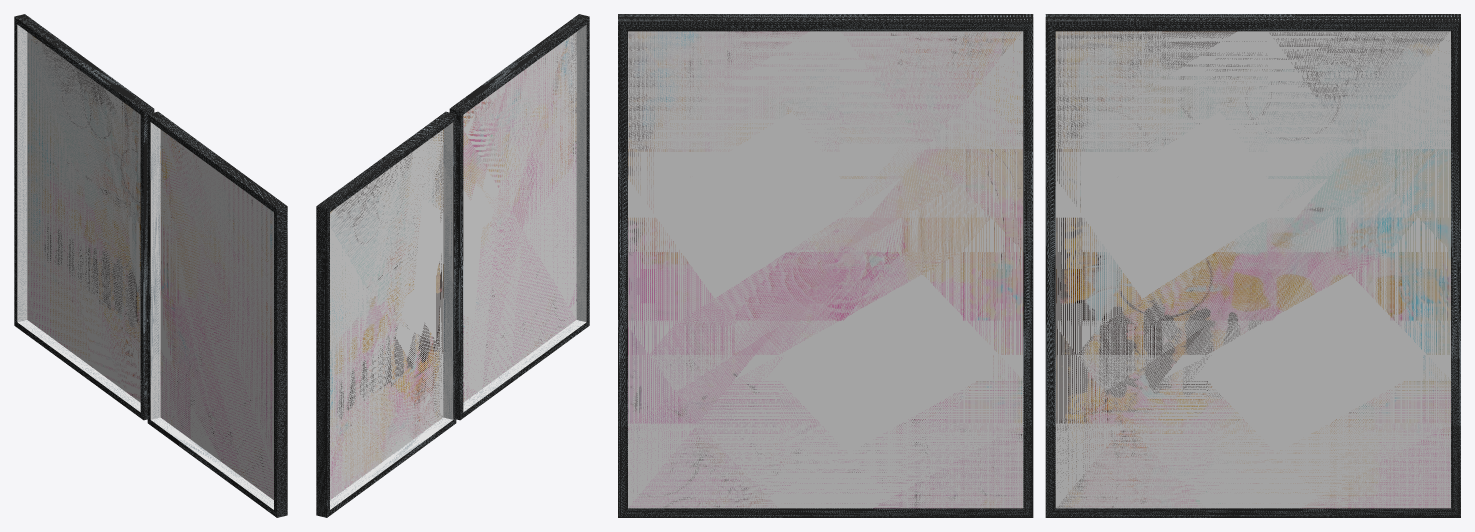
Rendered from art36.dae.
3 renders of one model, left to right at view 1: azimuth 30°, elevation 25°; view 2: azimuth 150°, elevation 25°; view 3: azimuth 270°, elevation 25°, orthographic. The views are drawn at different scales.
Visible parts, largest first — view 1: group_1 (×3), group_0 (×3); view 2: group_0 (×3), group_1 (×3); view 3: group_0 (×2), group_1 (×2).
Part boxes in pixels (x1,y1,x2,y2): group_1 (×3): [147, 111, 287, 517]; group_0 (×3): [14, 14, 154, 420]; group_0 (×3): [316, 111, 456, 517]; group_1 (×3): [449, 14, 589, 420]; group_0 (×2): [1045, 14, 1460, 517]; group_1 (×2): [618, 14, 1033, 517].
Bounding box in the file's own units: 1.18 × 50.35 × 32.68.
Materials: 5 (2 with a texture image).
